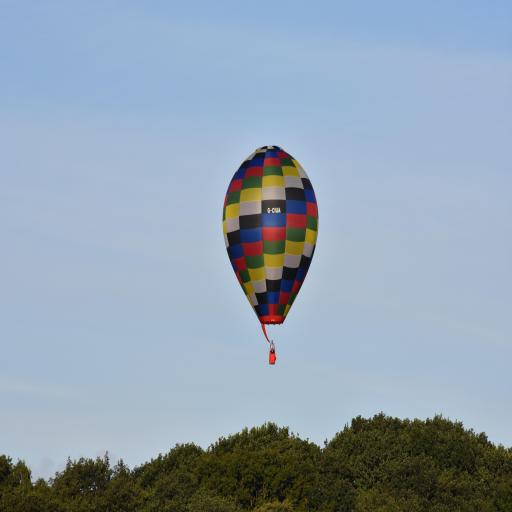hot air ballon: (222, 140, 324, 368)
